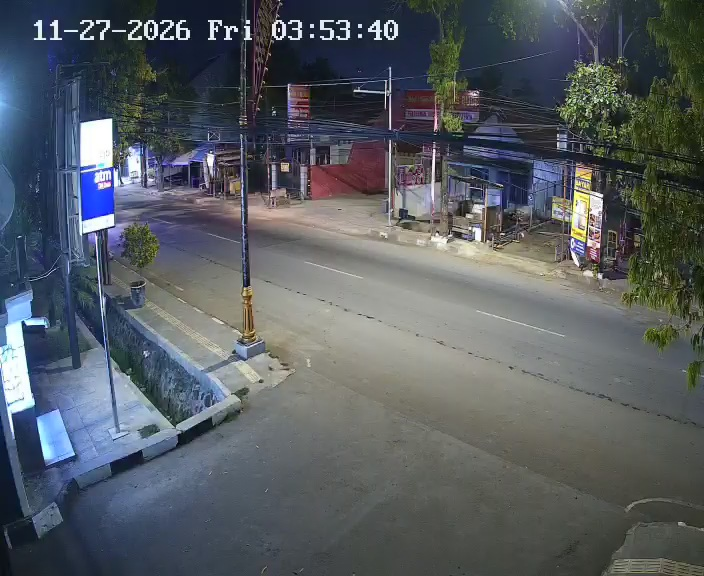Gerobak: (446, 162, 504, 242)
